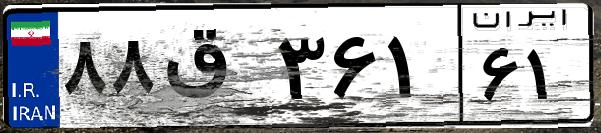1: (385, 28, 445, 110), (525, 38, 570, 115)
3: (270, 28, 330, 110)
6: (330, 28, 385, 110), (475, 38, 525, 113)
8: (57, 26, 110, 100), (110, 28, 158, 98)
ق: (158, 20, 270, 120)
